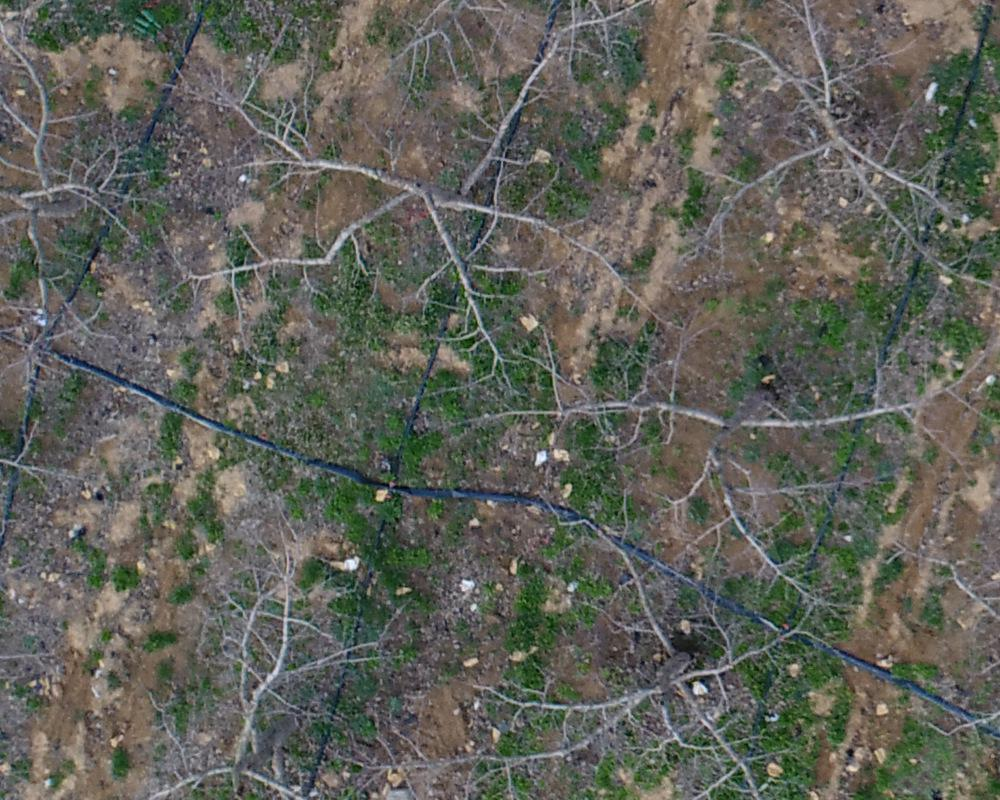apple: (164, 19, 683, 393), (403, 330, 990, 620), (410, 510, 835, 790), (696, 10, 990, 307), (120, 524, 431, 790)
